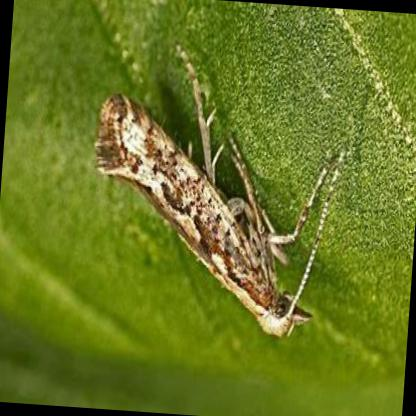plutella: (94, 34, 349, 337)
